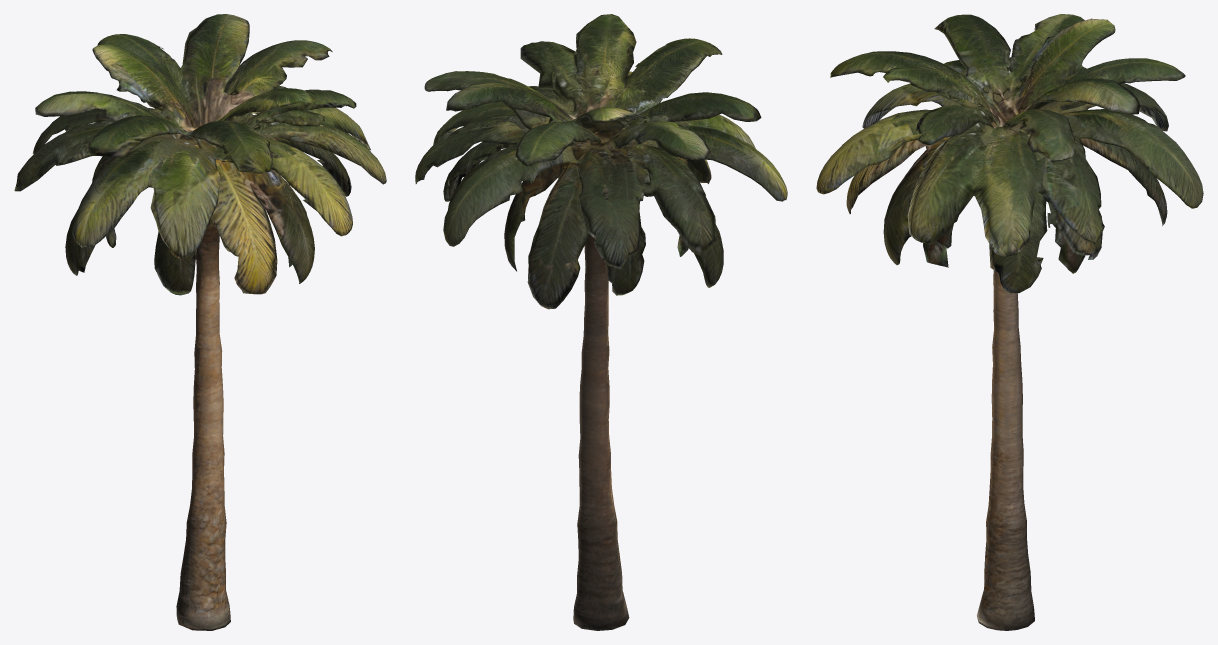
The picture shows the model from 3 angles, left to right: view 1: azimuth 30°, elevation 25°; view 2: azimuth 150°, elevation 25°; view 3: azimuth 270°, elevation 25°; orthographic projection. The views are drawn at different scales.
Bounding box in the file's own units: 1.21 × 2 × 1.23.
Materials: 1 (1 with a texture image).
